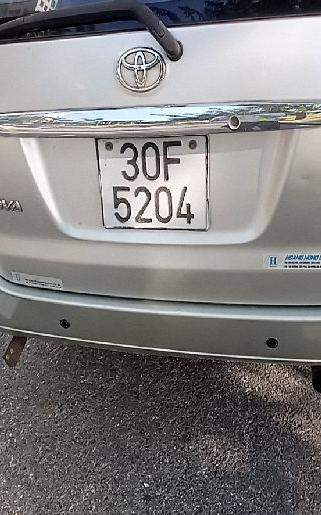Plate-iWeP: (94, 131, 213, 232)
